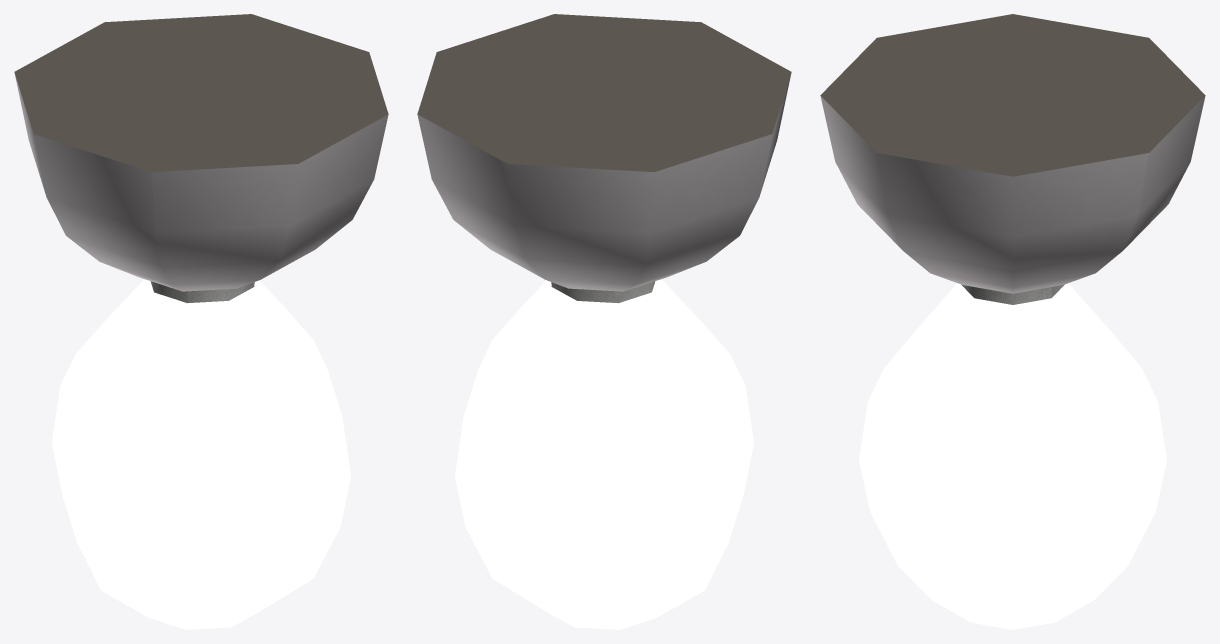
Rendered from ceiling_lamp.glb.
3 renders of one model, left to right at view 1: azimuth 30°, elevation 25°; view 2: azimuth 150°, elevation 25°; view 3: azimuth 270°, elevation 25°, orthographic.
Parts seen in each view (by area): view 1: ceiling_lamp; view 2: ceiling_lamp; view 3: ceiling_lamp.
Boxes of the visible parts, bbox=[...] form: ceiling_lamp: bbox=[14, 14, 388, 629]; ceiling_lamp: bbox=[417, 14, 791, 629]; ceiling_lamp: bbox=[820, 14, 1205, 629].
Bounding box in the file's own units: 0.196 × 0.2966 × 0.196.
2 materials, 1 textured.
